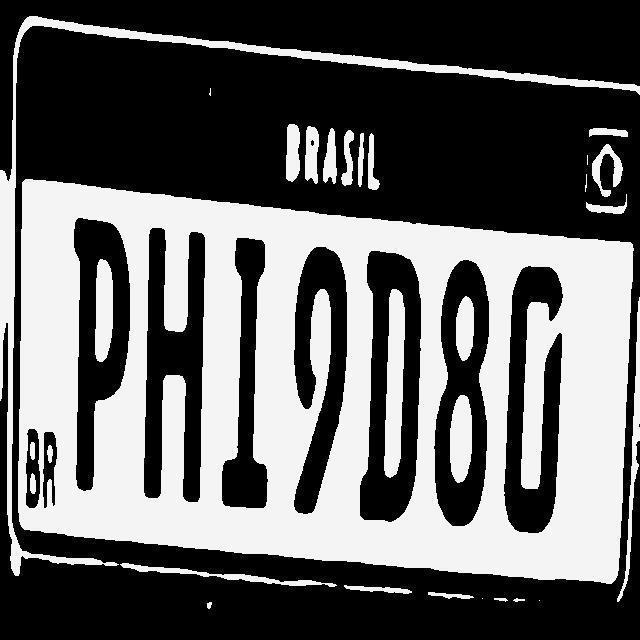0: (502, 264, 571, 532)
8: (433, 260, 494, 534)
9: (282, 244, 355, 524)
d: (347, 253, 426, 526)
h: (132, 226, 208, 521)
i: (209, 232, 277, 520)
p: (62, 215, 132, 504)
